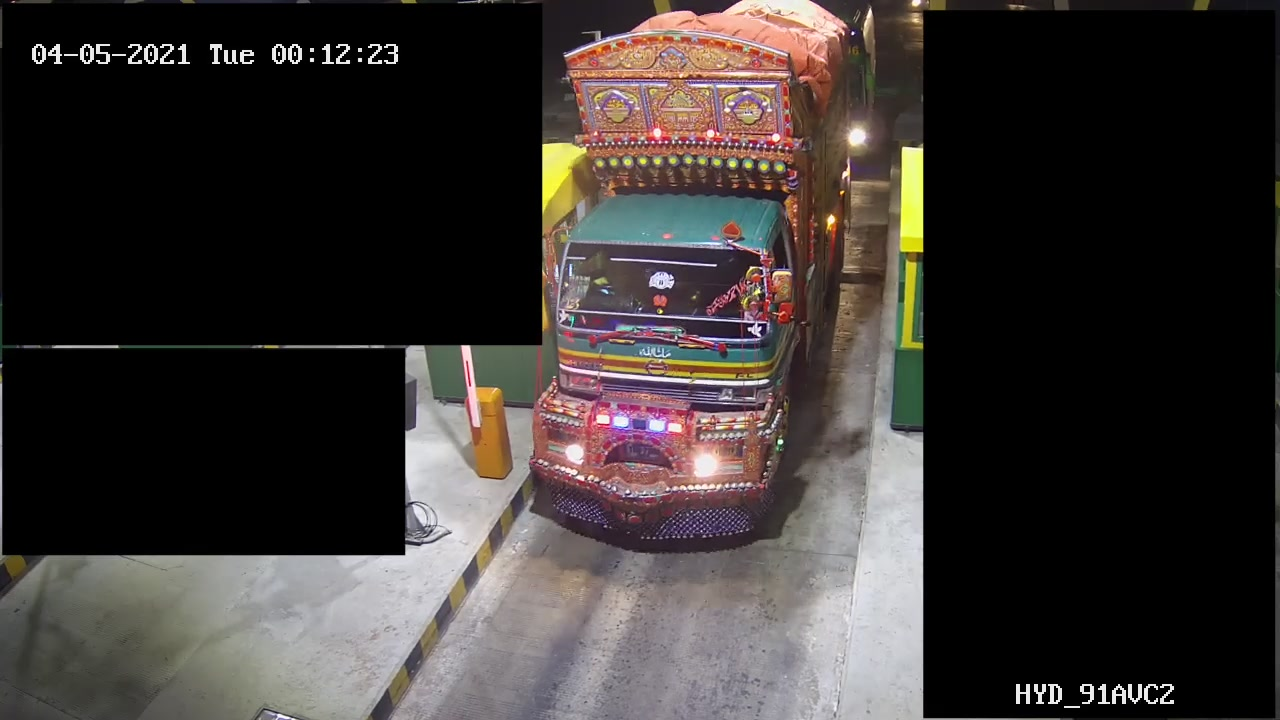F5: (531, 1, 857, 556)
